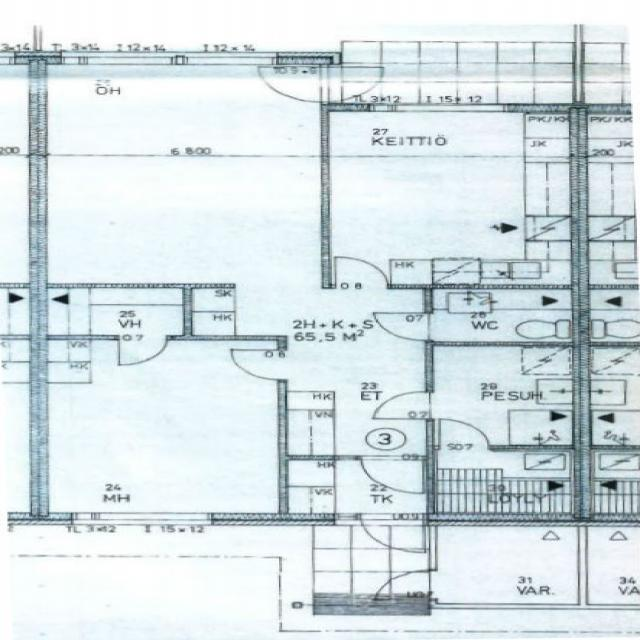door: (258, 66, 342, 102), (322, 66, 404, 102), (361, 514, 422, 560), (361, 455, 422, 494), (376, 570, 436, 600), (224, 350, 286, 379), (335, 255, 387, 289), (376, 312, 433, 340), (439, 418, 487, 449), (118, 336, 166, 366), (378, 392, 432, 418)
